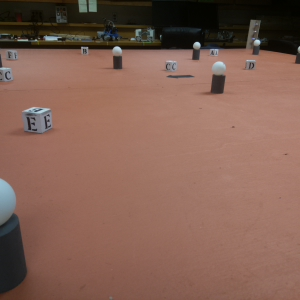blockA: (210, 48, 219, 56)
blockB: (80, 47, 90, 57)
blockC: (1, 66, 12, 82), (165, 59, 177, 72)
blockD: (244, 59, 256, 71)
blockE: (23, 107, 53, 135)
blockF: (6, 49, 17, 60)
corner: (247, 19, 260, 50)
obstacle: (1, 178, 26, 297), (211, 60, 228, 97), (112, 46, 124, 69), (193, 41, 202, 60), (252, 40, 261, 55)
start: (167, 72, 194, 81)
